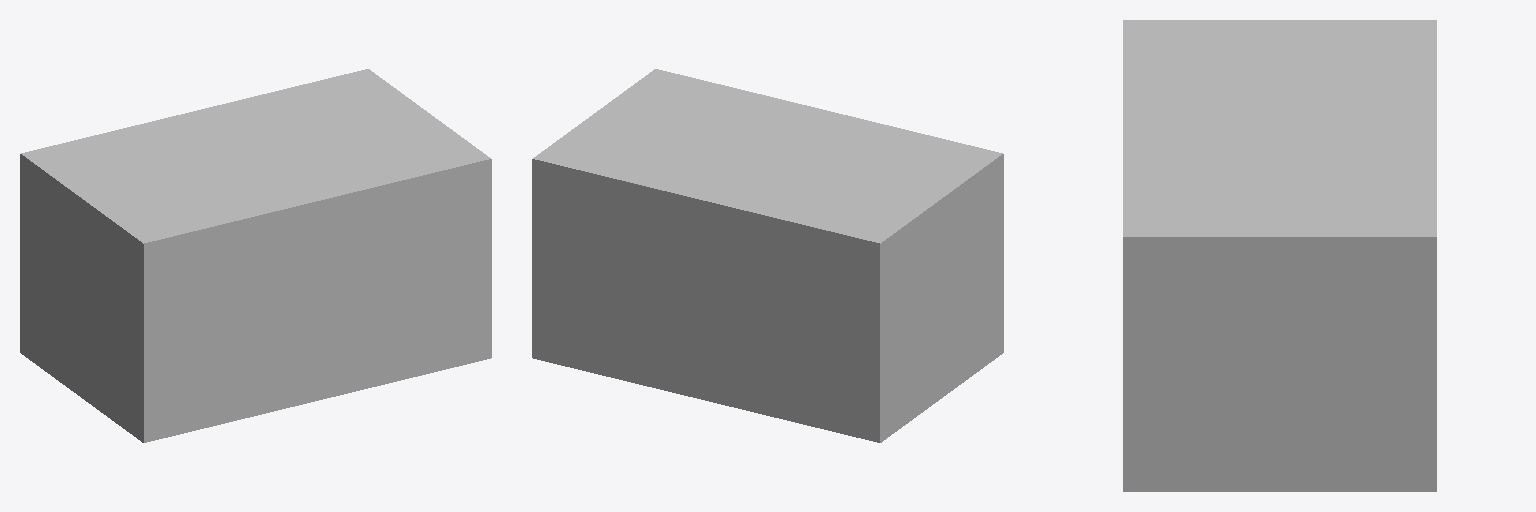
robot.urdf — box.urdf:
<?xml version="1.0" ?>
<robot name="box.urdf">
  <link name="baseLink">
    <contact>
      <lateral_friction value="1.0"/>
      <rolling_friction value="0.0001"/>
      <inertia_scaling value="3.0"/>
    </contact>
    <inertial>
      <origin rpy="0 0 0" xyz="0 0 0"/>
       <mass value="0.1"/>
       <inertia ixx="1" ixy="0" ixz="0" iyy="1" iyz="0" izz="1"/>
    </inertial>
    <visual>
      <origin rpy="0 0 0" xyz="0 0 0"/>
      <geometry>
        <!-- <box size="0.31 0.19 0.17"/> -->
        <mesh filename="box/box.obj" scale="0.31 0.19 0.17"/>
      </geometry>
      <material name="white">
        <color rgba="0.8 0.8 0.8 1"/>
      </material>
    </visual>
    <collision>
      <origin rpy="0 0 0" xyz="0 0 0"/>
      <geometry>
        <mesh filename="box/box.obj" scale="0.31 0.19 0.17"/>
	 	    <!-- <box size="0.31 0.19 0.17"/> -->
      </geometry>
    </collision>
  </link>
</robot>

--- Facts derived from the render (not from the file) ---
Views: 3 orthographic renders of the robot side by side, from view 1: azimuth 30°, elevation 25°; view 2: azimuth 150°, elevation 25°; view 3: azimuth 270°, elevation 25°.
Robot: box.urdf — 1 links, 0 joints (none); root link baseLink; default pose: all joints at 0.
Visible links, largest first — view 1: baseLink; view 2: baseLink; view 3: baseLink.
Link boxes in pixels (<box>): baseLink: <box>20,69,491,442</box>; baseLink: <box>532,69,1003,442</box>; baseLink: <box>1123,20,1436,491</box>.
Size in the robot's own frame: 0.31 by 0.19 by 0.17 metres.
1 mesh visuals loaded from 1 distinct referenced files (1 OBJ).
